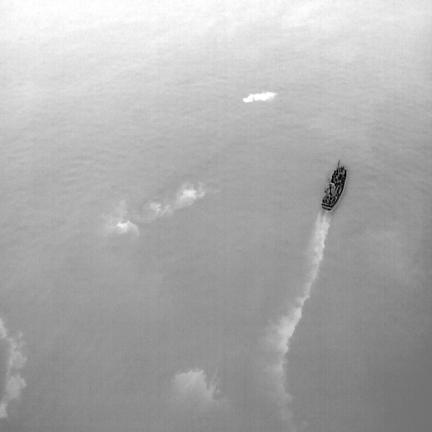flukeprints: (243, 92, 275, 100)
